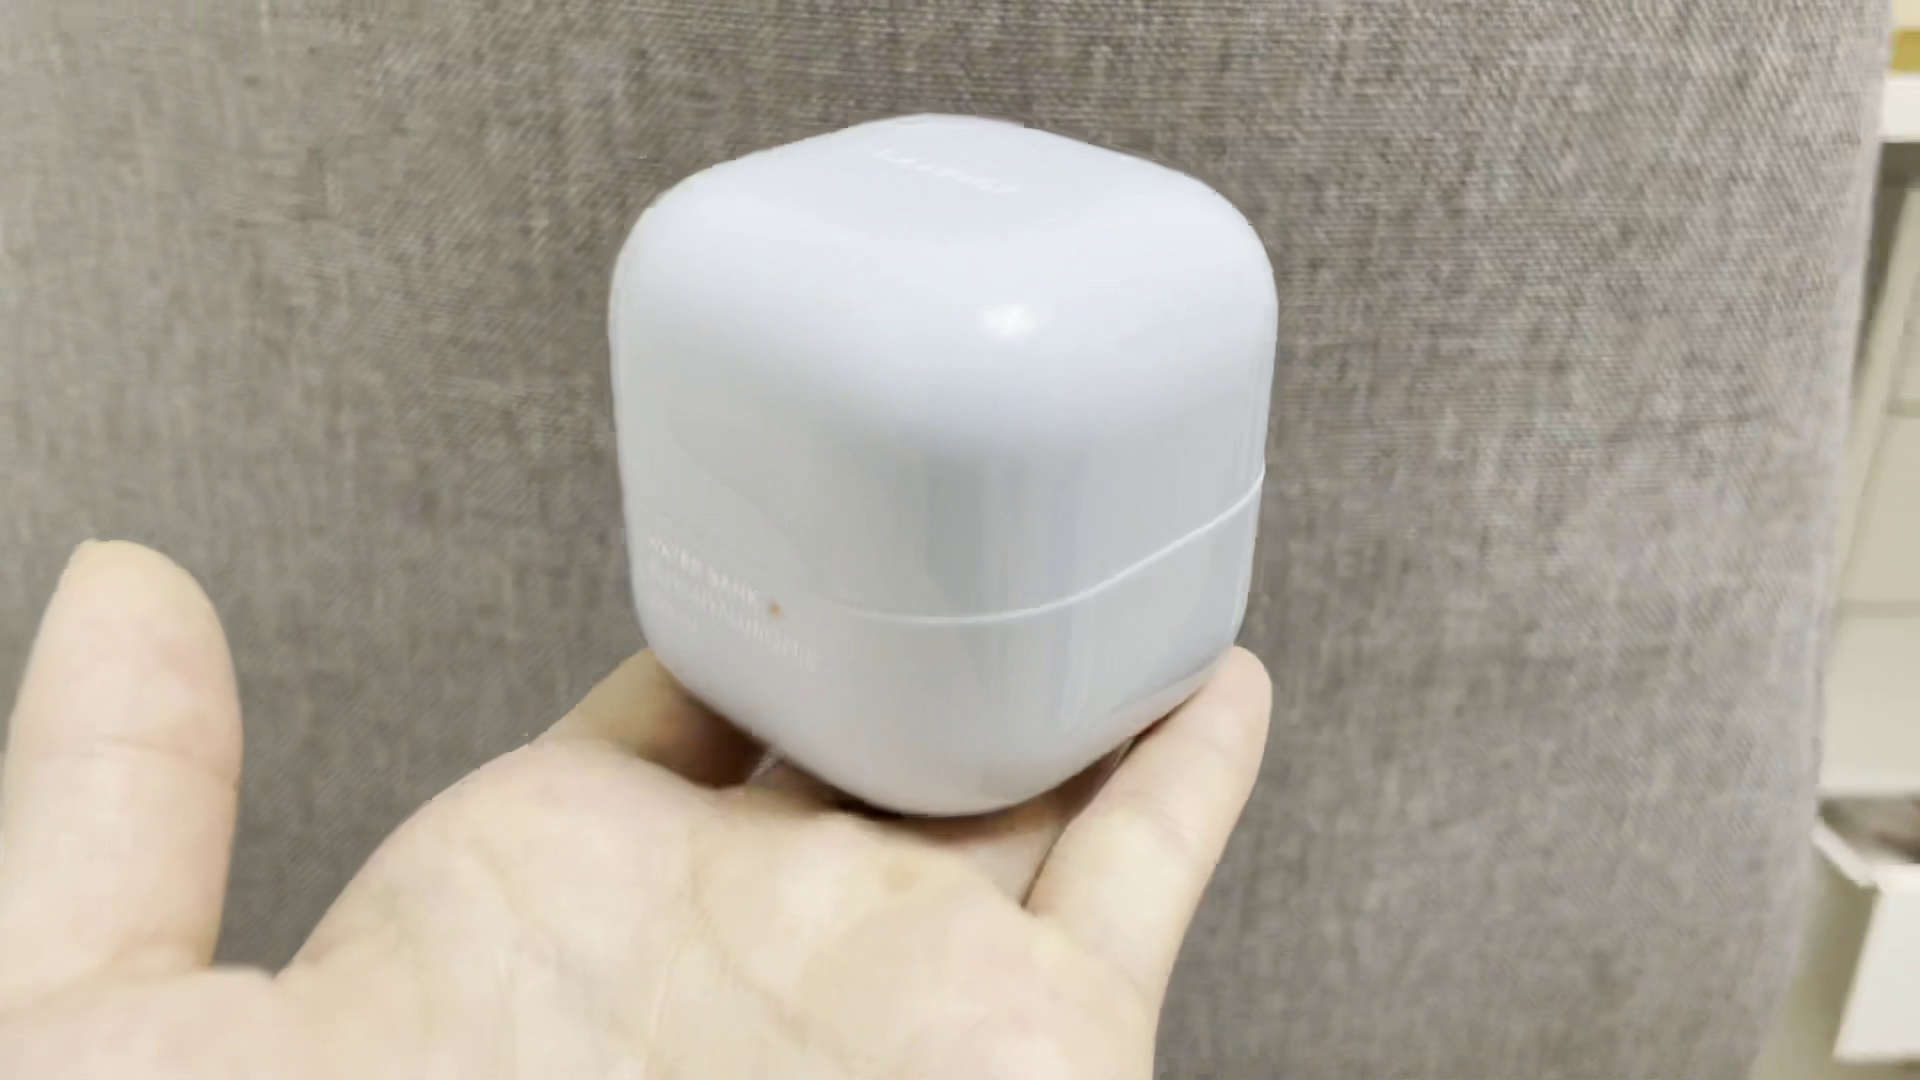cream: (603, 109, 1282, 818)
